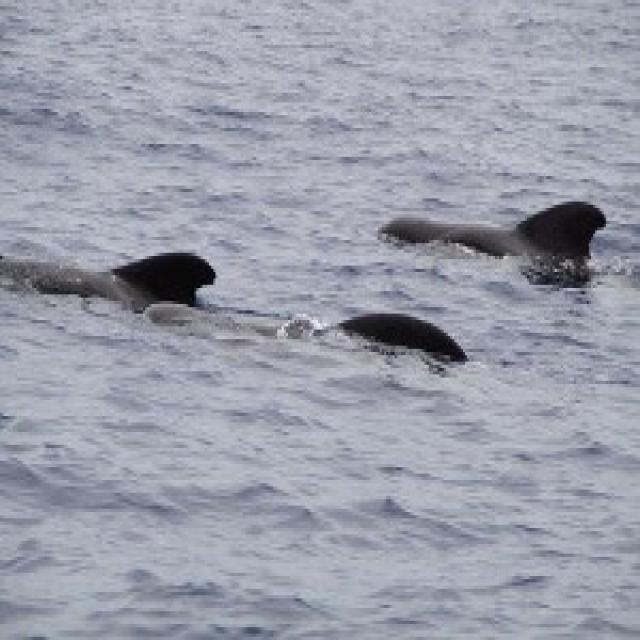Dolphin: (369, 191, 613, 290), (0, 233, 215, 329)
